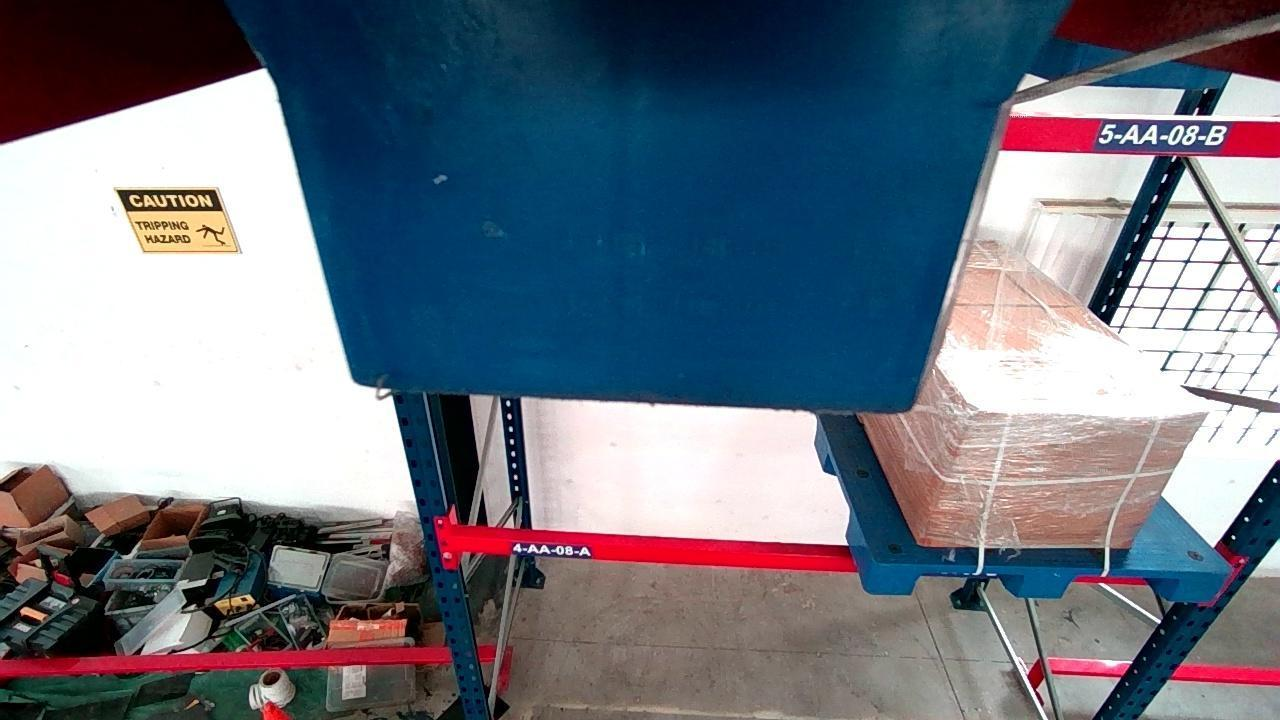h_rack: (455, 532, 855, 566), (1001, 115, 1280, 156)
small_pallet: (865, 561, 1226, 599)
